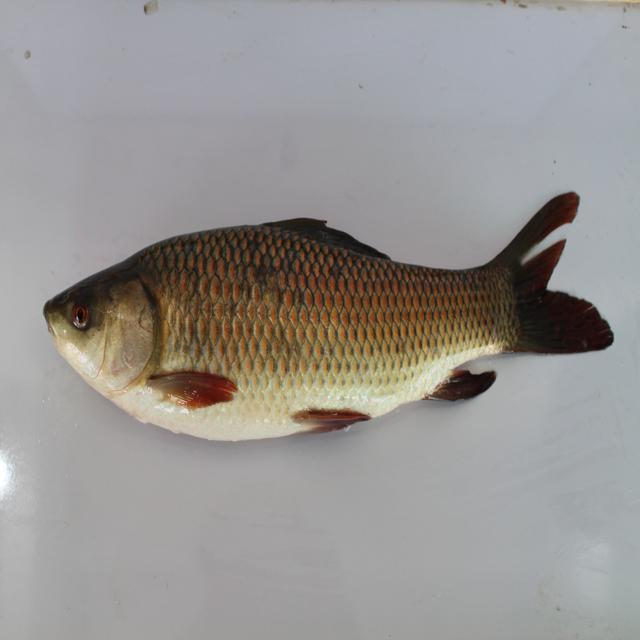Rohu: (31, 201, 611, 438)
